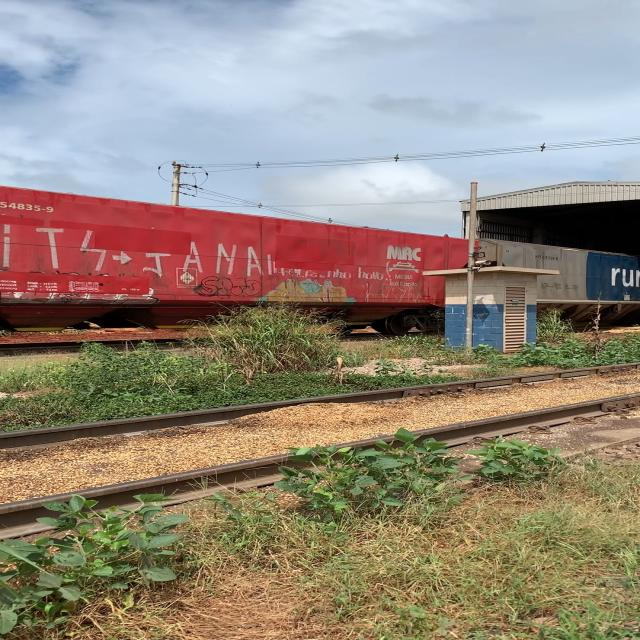hopper: (0, 178, 475, 338), (473, 233, 640, 325)
